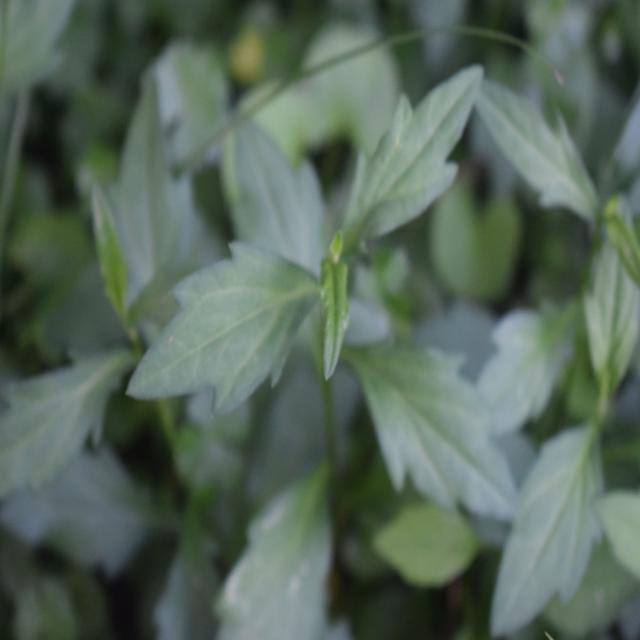Indian aster: (180, 79, 528, 536)
